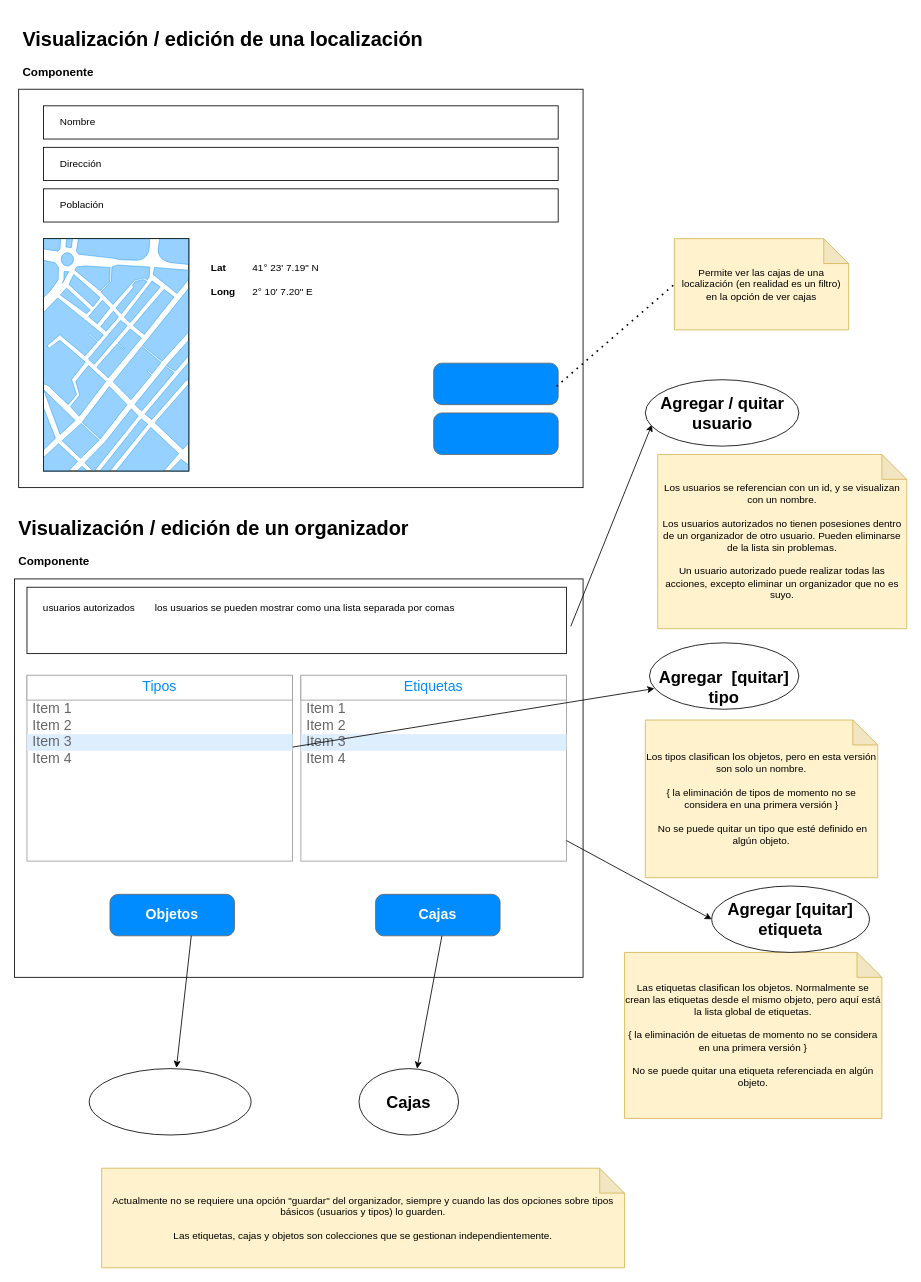
The diagram is 921 pixels wide and 1282 high, and some of its shapes have lost their labels. The centre of each missing label's shape, as x and y in pixels:
Guardar: point 495,433
Objetos sin caja: point 169,1101
Ver cajas: point 495,383
